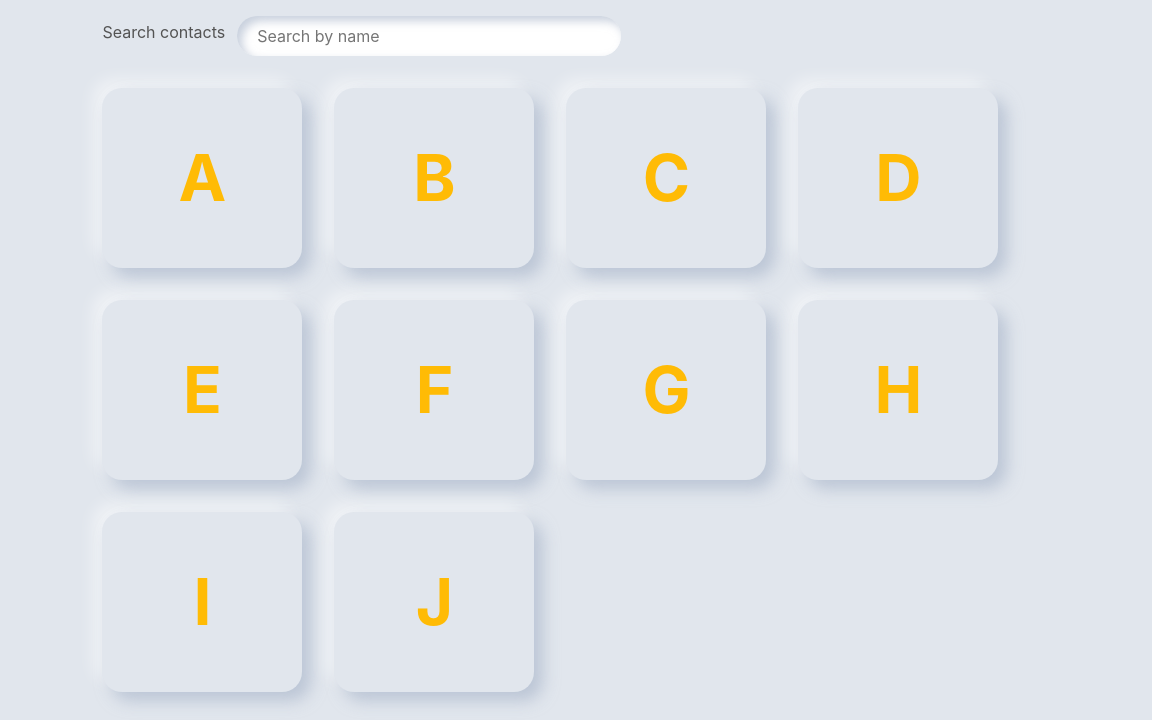
detail modal interaction › the detail modal can be closed without removing the contact
Click the button "A": (202, 178) [102, 88, 302, 268]
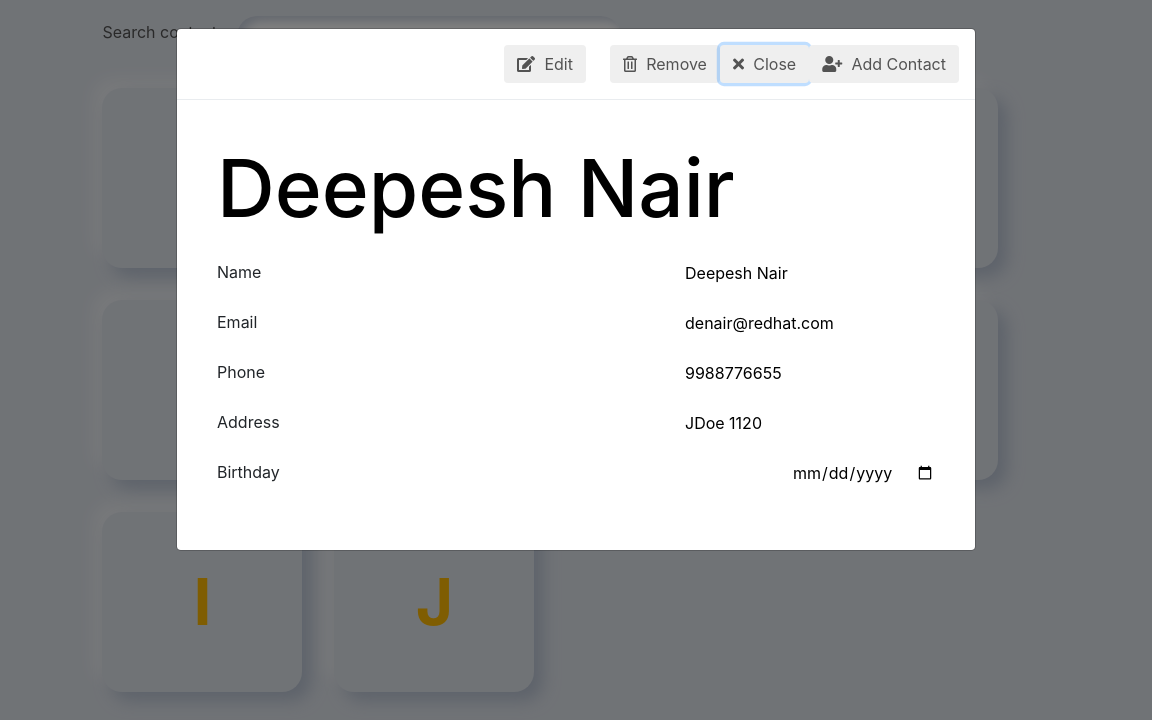
Click the button "Close": (764, 64) [720, 45, 809, 83]
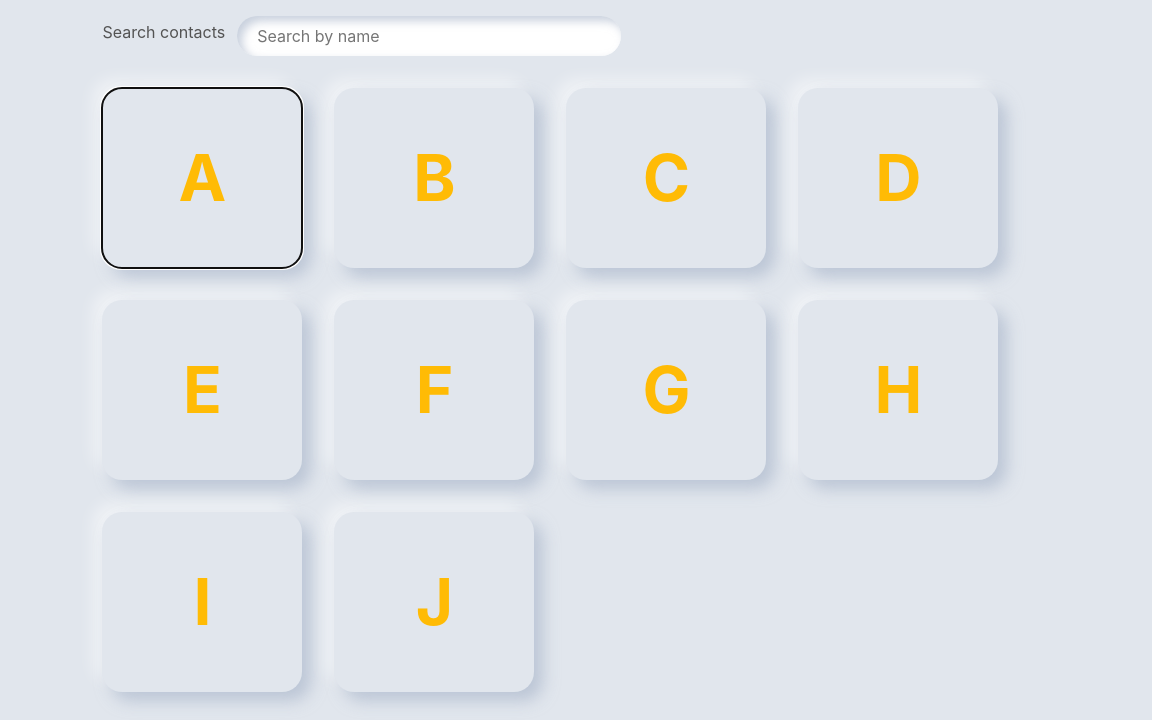
Expected: the button "A" is shown, [102, 88, 302, 268]
Result: the dialog is gone
